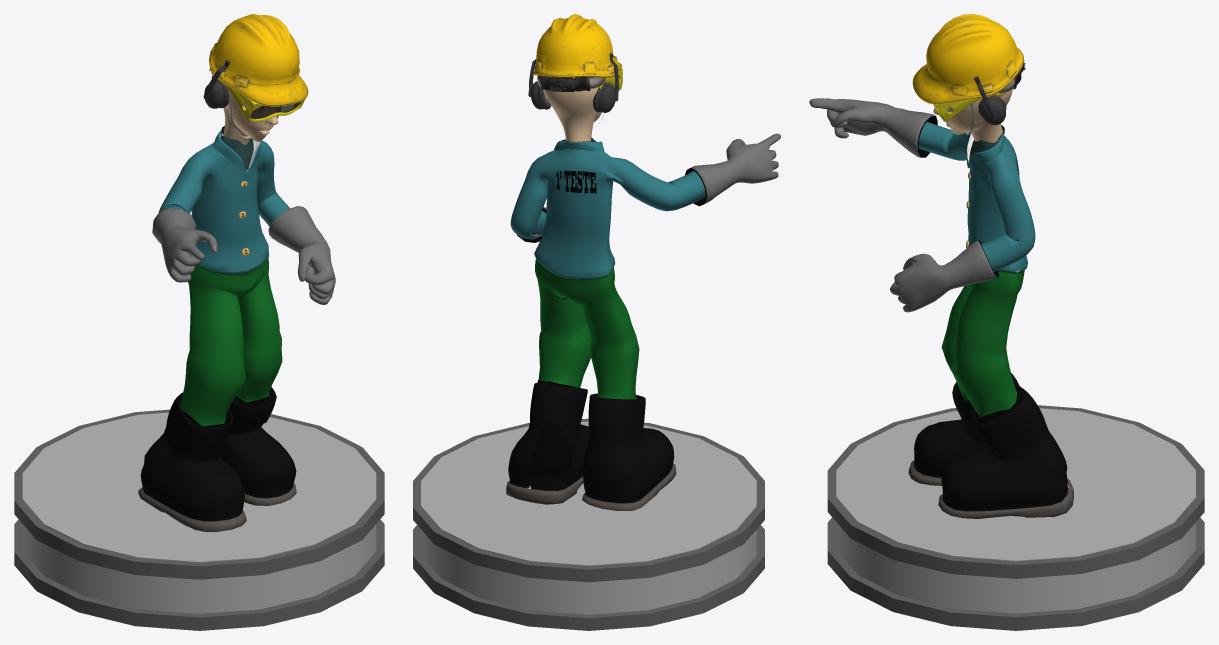
Rendered from investigator.glb.
3 renders of one model, left to right at view 1: azimuth 30°, elevation 25°; view 2: azimuth 150°, elevation 25°; view 3: azimuth 270°, elevation 25°, orthographic. The views are drawn at different scales.
Visible parts, largest first — view 1: te_wire_115115115_0, te_Standardmaterial_0, te_wire_255255255_0, te__capaceteHat_0, te_Material__2228_0, te_Face_0, te_Material__41_0, te_Material__27_0; view 2: te_Standardmaterial_0, te_wire_115115115_0, te_wire_255255255_0, te__capaceteHat_0, te_Material__2228_0, te_Face_0, te_Material__41_0; view 3: te_wire_115115115_0, te_Standardmaterial_0, te_wire_255255255_0, te_Material__2228_0, te__capaceteHat_0, te_Face_0, te_Material__41_0.
Part boxes in pixels (x1,y1,x2,y2): te_wire_115115115_0: (22,93,376,613); te_Standardmaterial_0: (138,126,296,531); te_wire_255255255_0: (14,409,384,630); te__capaceteHat_0: (208,14,308,106); te_Material__2228_0: (152,206,335,304); te_Face_0: (223,91,281,144); te_Material__41_0: (203,59,230,108); te_Material__27_0: (211,75,304,121); te_Standardmaterial_0: (506,137,705,510); te_wire_115115115_0: (421,113,756,614); te_wire_255255255_0: (413,418,764,630); te__capaceteHat_0: (532,14,621,91); te_Material__2228_0: (517,133,780,242); te_Face_0: (543,77,607,141); te_Material__41_0: (528,53,618,112); te_wire_115115115_0: (836,103,1195,613); te_Standardmaterial_0: (908,122,1073,518); te_wire_255255255_0: (827,405,1204,630); te_Material__2228_0: (809,98,999,312); te__capaceteHat_0: (912,14,1025,104); te_Face_0: (933,89,1012,142); te_Material__41_0: (974,76,1006,125).
Bounding box in the file's own units: 62.53 × 99.3 × 64.6.
14 materials, 5 textured.
